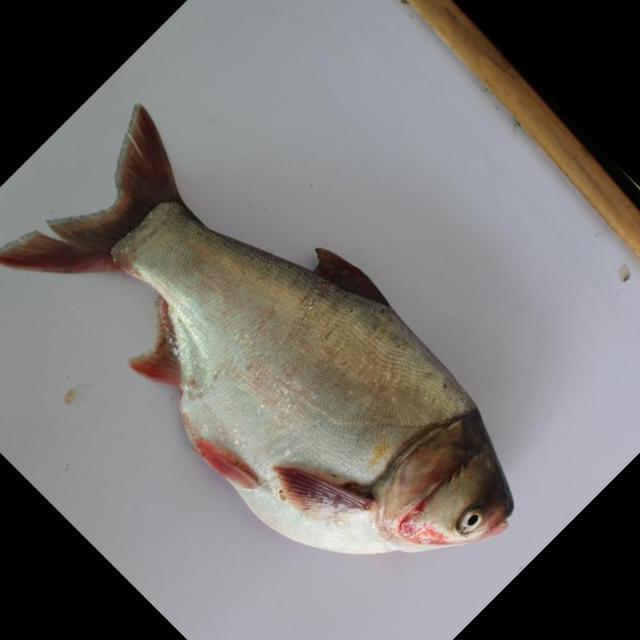SilverCarp: (17, 118, 514, 554)
